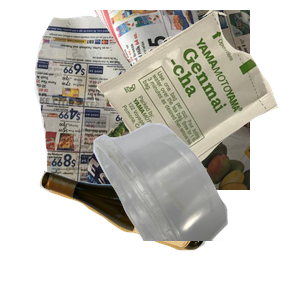glass: (37, 168, 242, 300)
paper: (32, 10, 272, 190)
plastic: (91, 120, 300, 300)
trash: (91, 10, 300, 186)
